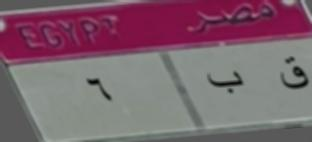6: (82, 69, 117, 110)
baa: (207, 61, 247, 101)
qaaf: (276, 50, 310, 99)
